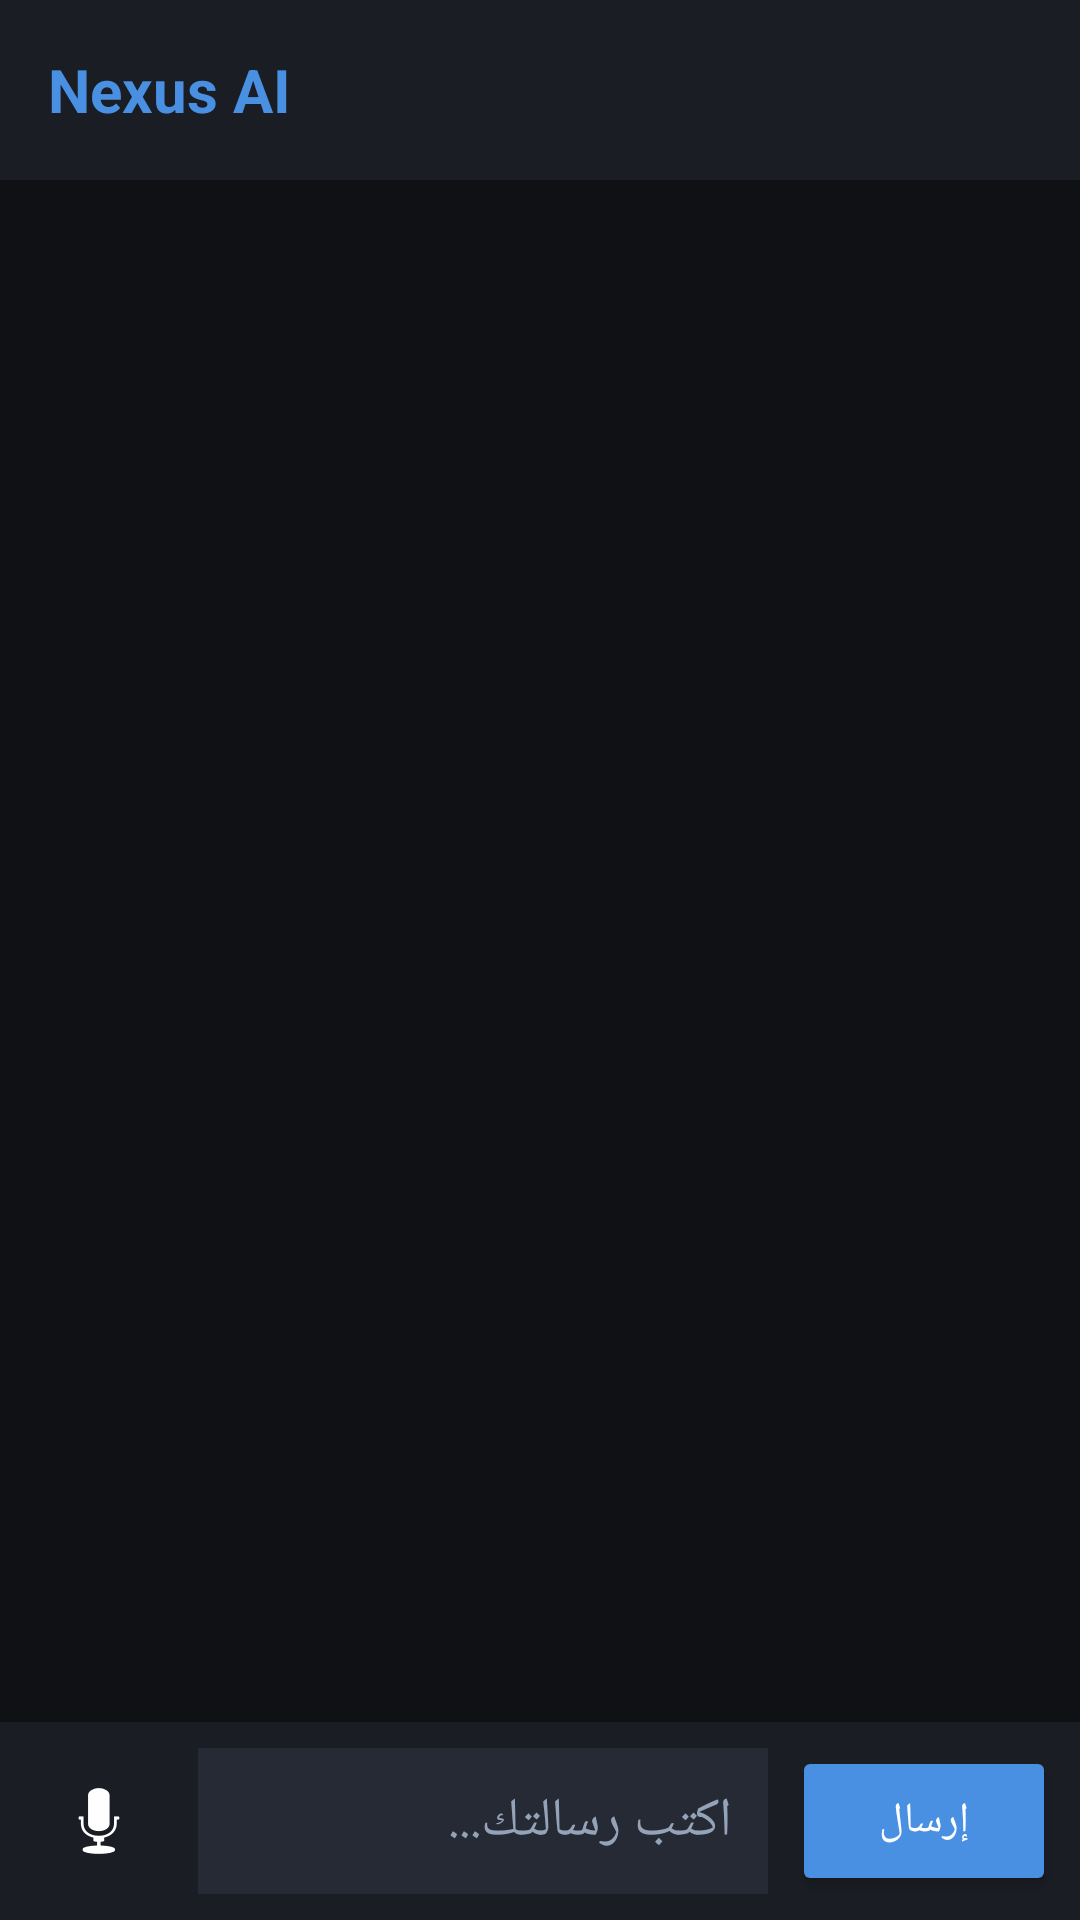

Screen size 1080w x 1920h. Icon name, then its box in pixels as {"x1": x1, "y1": y1, "x2": x2, "y2": y2}:
speak now: {"x1": 78, "y1": 1788, "x2": 120, "y2": 1854}
